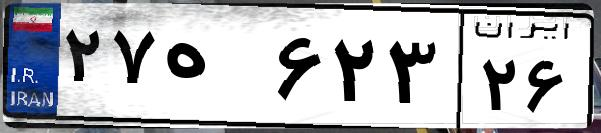2: (330, 28, 385, 110), (57, 26, 110, 100), (475, 38, 525, 113)
3: (385, 28, 445, 110)
6: (270, 28, 330, 110), (525, 38, 570, 115)
7: (110, 28, 158, 98)
ه: (158, 20, 270, 120)
